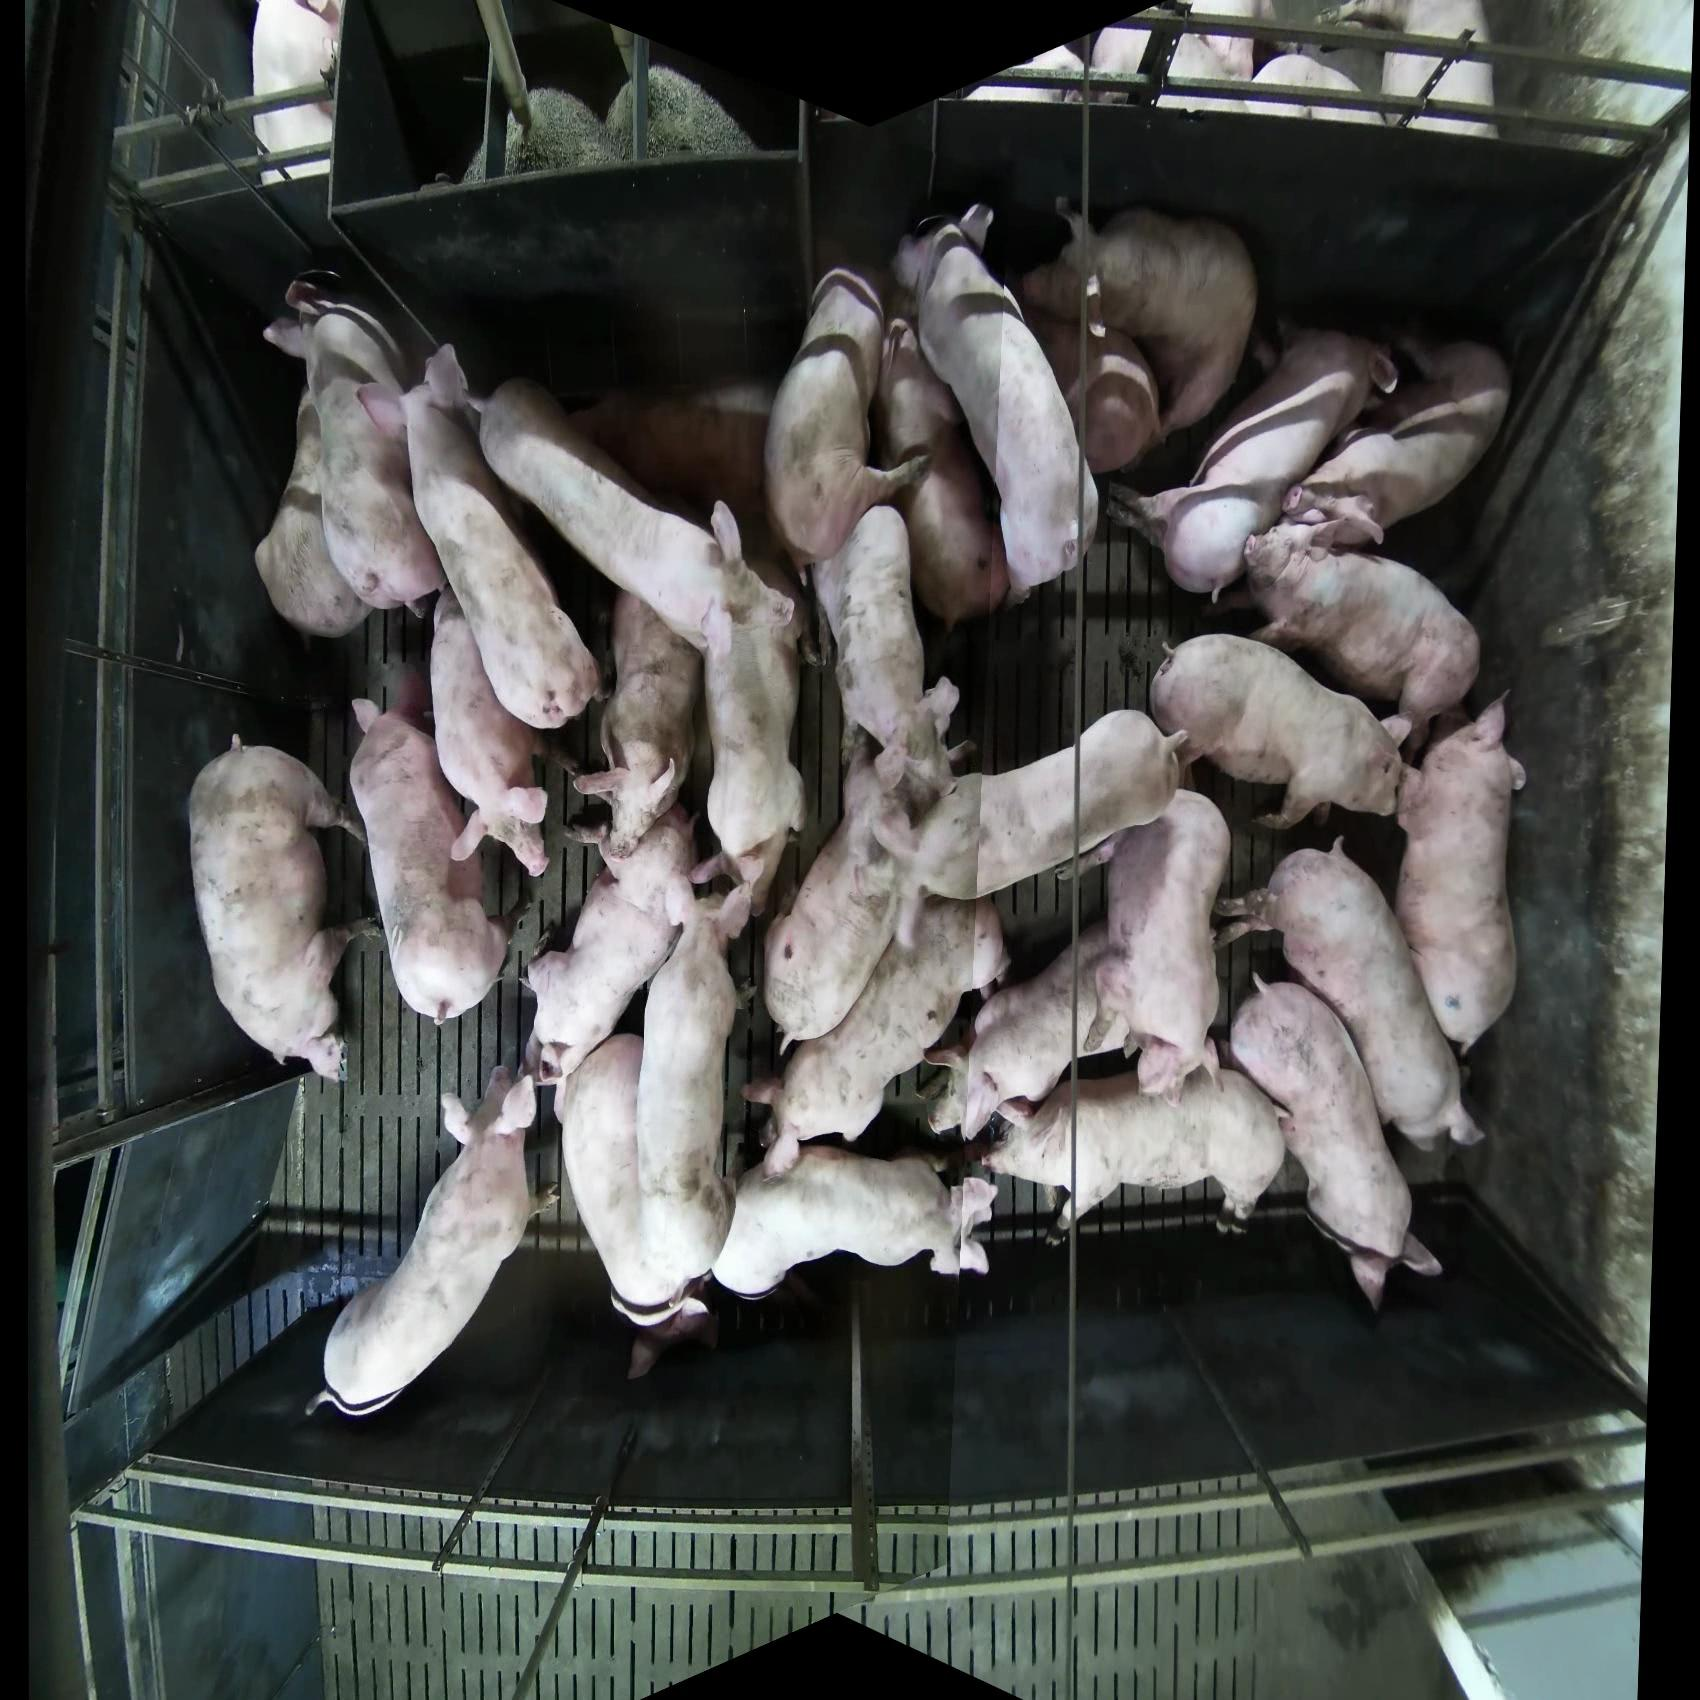pig: (308, 1063, 551, 1420), (473, 377, 775, 660), (1214, 838, 1485, 1152), (890, 202, 1102, 604), (1107, 324, 1400, 604), (400, 342, 604, 733), (1228, 967, 1445, 1312), (747, 894, 1010, 1177), (255, 280, 445, 638), (187, 735, 374, 1087), (1020, 198, 1259, 461), (870, 707, 1189, 901), (1238, 515, 1484, 767), (346, 696, 522, 1027), (621, 881, 749, 1303), (1281, 318, 1513, 550), (984, 1059, 1287, 1235), (1149, 630, 1412, 831), (761, 265, 933, 571), (1393, 690, 1529, 1055), (711, 1140, 998, 1300), (1090, 788, 1231, 1104), (690, 528, 806, 904), (875, 318, 1013, 629), (550, 1032, 683, 1326), (523, 847, 690, 1080), (571, 582, 704, 859), (824, 515, 939, 799), (621, 1242, 816, 1378), (1337, 2, 1498, 139), (1225, 976, 1351, 1136), (878, 739, 995, 911), (746, 1021, 875, 1169), (251, 2, 346, 185), (282, 276, 416, 402), (1140, 2, 1280, 114), (652, 852, 750, 973), (827, 254, 909, 381), (1245, 51, 1372, 125), (889, 212, 971, 316), (998, 37, 1098, 103), (1084, 20, 1161, 100), (961, 889, 1006, 996)
